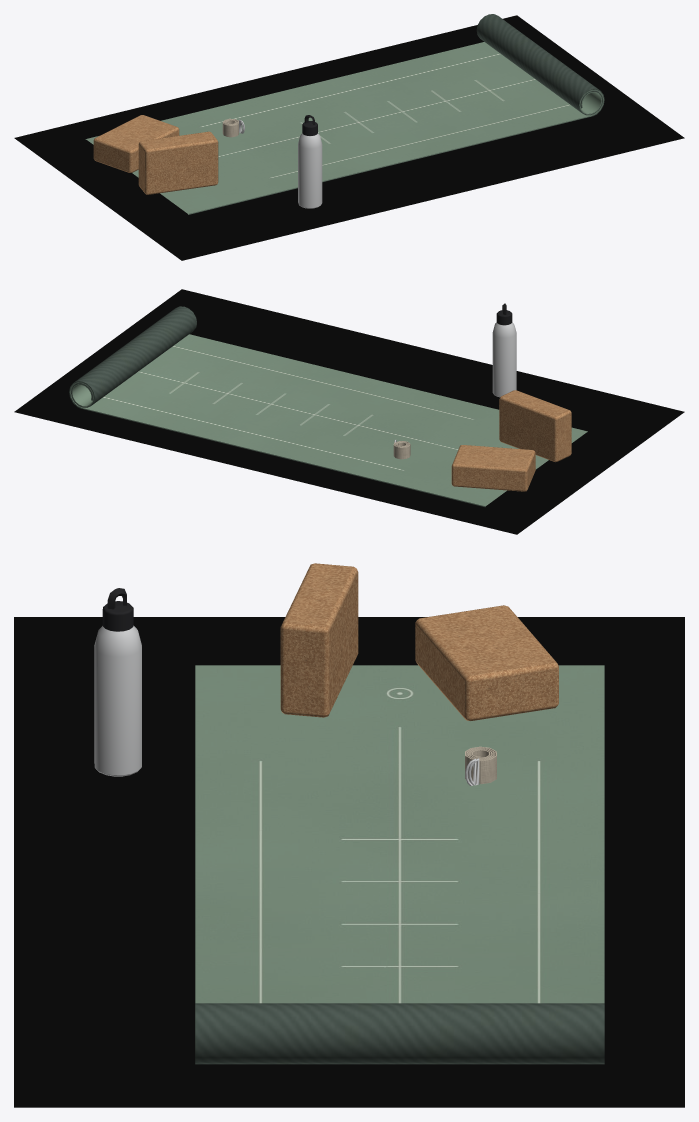
The model's file is yoga_mat.glb.
3 renders of one model, top to bottom at view 1: azimuth 30°, elevation 25°; view 2: azimuth 150°, elevation 25°; view 3: azimuth 270°, elevation 25°, orthographic. The views are drawn at different scales.
Visible parts, largest first — view 1: yoga_mat_LOD0, yoga_mat_Shadow; view 2: yoga_mat_LOD0, yoga_mat_Shadow; view 3: yoga_mat_LOD0, yoga_mat_Shadow.
Part boxes in pixels (bbox=[...]): yoga_mat_LOD0: bbox=[85, 14, 604, 214]; yoga_mat_Shadow: bbox=[14, 15, 684, 260]; yoga_mat_LOD0: bbox=[69, 303, 587, 507]; yoga_mat_Shadow: bbox=[14, 289, 684, 534]; yoga_mat_LOD0: bbox=[94, 563, 604, 1064]; yoga_mat_Shadow: bbox=[14, 617, 684, 1107].
Size of what is drawn, in the model's own units: 1.73 by 0.2953 by 1.
Materials: 6 (4 with a texture image).
